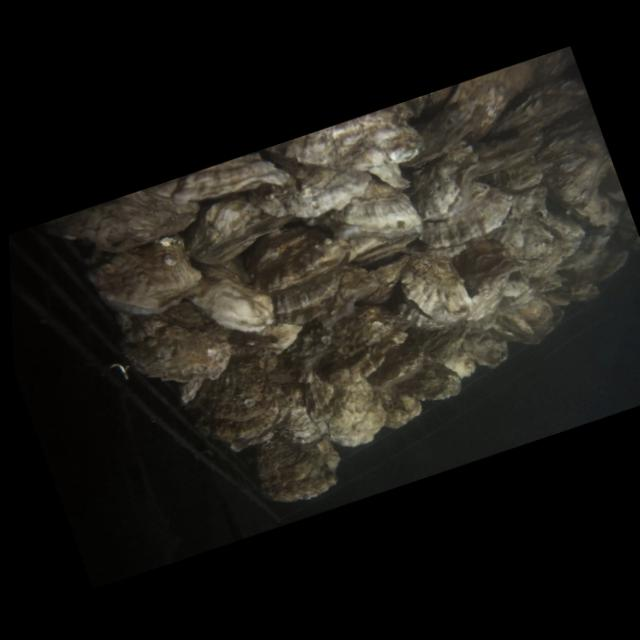Oyster-Closed: (38, 175, 209, 275), (264, 99, 430, 202), (236, 122, 381, 234), (78, 222, 214, 330), (143, 144, 293, 227), (172, 181, 302, 275), (174, 244, 282, 351), (462, 76, 597, 160), (180, 352, 288, 454), (301, 298, 420, 390), (316, 165, 426, 255), (237, 211, 354, 295), (527, 120, 625, 217), (388, 238, 480, 333), (265, 266, 354, 329), (342, 256, 419, 313), (339, 223, 423, 273), (266, 381, 323, 450), (246, 317, 307, 362), (367, 352, 432, 389)
Oyster-Indeterminate: (384, 58, 554, 167), (107, 278, 246, 402), (482, 171, 599, 290), (405, 170, 525, 257), (297, 354, 395, 459), (243, 419, 351, 512), (395, 136, 497, 224), (490, 287, 572, 354), (453, 230, 526, 297), (396, 359, 467, 414), (458, 322, 516, 375), (373, 379, 429, 431), (432, 337, 480, 385)
